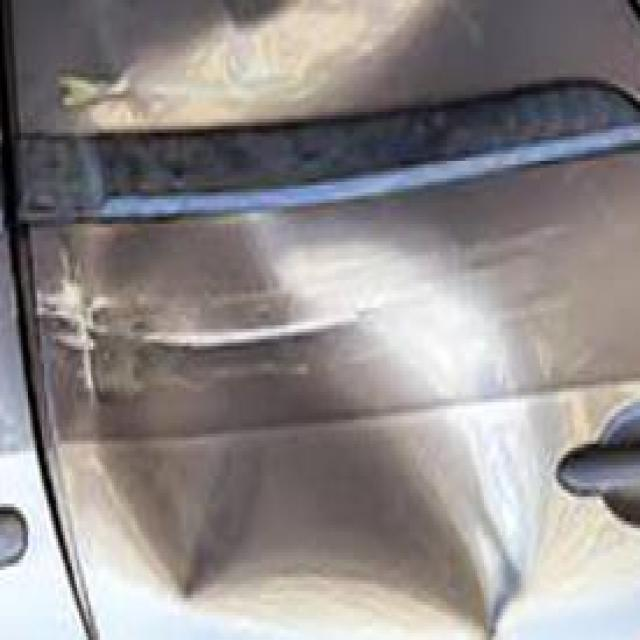dent: (74, 196, 519, 630)
